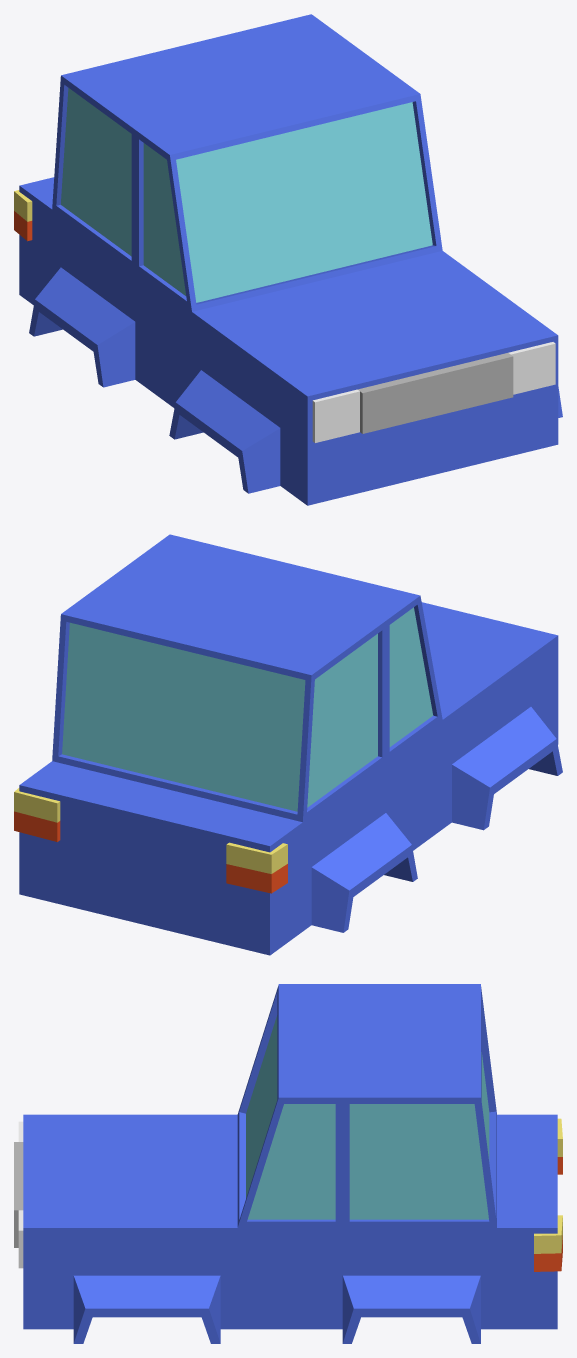
File: blue_car.fbx
3 views of the same model, one above another, from view 1: azimuth 30°, elevation 25°; view 2: azimuth 150°, elevation 25°; view 3: azimuth 270°, elevation 25° (orthographic). The views are drawn at different scales.
Visible parts, largest first — view 1: Car1; view 2: Car1; view 3: Car1.
Part boxes in pixels (x1=…): Car1: x1=14, y1=14, x2=562, y2=505; Car1: x1=14, y1=534, x2=562, y2=955; Car1: x1=14, y1=984, x2=562, y2=1343.
Size of the model in its own units: 374 by 284 by 609.
